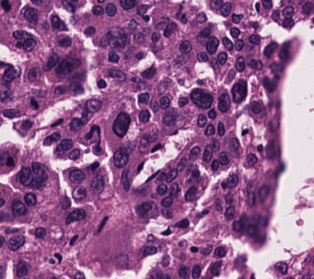nucleus: (55, 58, 80, 77), (112, 112, 130, 136), (190, 89, 212, 108), (113, 144, 131, 167), (231, 80, 246, 102), (65, 208, 85, 223), (2, 66, 19, 83), (137, 201, 156, 216), (109, 34, 127, 49), (7, 235, 24, 250), (91, 174, 104, 193), (19, 167, 32, 185), (30, 175, 46, 189), (12, 200, 26, 215), (218, 93, 229, 112), (197, 28, 210, 44), (45, 53, 58, 69), (85, 99, 101, 112), (206, 36, 218, 53), (72, 186, 86, 200), (31, 162, 46, 175), (69, 169, 84, 182), (109, 68, 125, 80), (23, 37, 36, 51), (85, 125, 99, 138), (139, 135, 149, 152), (264, 42, 276, 56), (163, 111, 175, 125), (121, 169, 129, 190), (185, 186, 196, 201), (16, 261, 27, 276), (13, 30, 31, 39), (259, 185, 269, 201), (179, 40, 191, 53), (142, 66, 155, 78), (28, 67, 40, 80), (189, 146, 200, 160), (235, 56, 245, 71), (70, 118, 82, 130), (203, 145, 212, 161), (165, 169, 177, 181), (24, 193, 36, 205), (98, 216, 107, 232), (263, 78, 274, 91), (227, 174, 238, 187), (211, 261, 221, 275), (2, 109, 19, 117), (60, 139, 72, 150), (275, 262, 287, 273), (222, 37, 232, 50), (139, 109, 149, 122), (1, 87, 10, 101), (225, 205, 234, 219), (142, 246, 156, 255), (71, 82, 82, 93), (145, 131, 156, 142), (159, 96, 169, 108), (251, 101, 261, 113), (176, 158, 186, 170), (188, 169, 198, 181), (147, 171, 159, 181), (267, 141, 274, 158), (58, 37, 71, 46), (249, 60, 262, 69), (170, 183, 179, 196), (108, 51, 118, 62), (138, 93, 149, 103), (161, 196, 172, 206), (233, 220, 243, 231), (34, 227, 45, 237), (214, 246, 225, 256), (178, 266, 188, 277), (217, 52, 226, 64), (158, 81, 167, 93), (197, 114, 206, 126), (219, 152, 228, 164), (61, 196, 70, 208), (249, 34, 259, 44), (50, 131, 60, 141), (69, 149, 79, 159), (161, 207, 171, 217), (197, 52, 208, 61), (205, 124, 214, 135), (210, 139, 219, 150), (247, 153, 256, 164), (157, 183, 166, 194), (247, 225, 256, 236), (226, 70, 234, 82), (230, 138, 238, 150), (176, 219, 188, 227), (192, 265, 200, 277), (217, 122, 224, 135), (230, 27, 239, 37), (22, 120, 32, 129), (43, 136, 53, 145), (201, 245, 211, 254), (100, 35, 108, 46), (235, 39, 243, 50), (55, 86, 66, 94), (150, 100, 158, 111), (134, 32, 143, 41), (151, 32, 160, 41), (97, 79, 106, 88), (178, 97, 187, 106), (271, 63, 281, 71), (151, 144, 161, 152), (211, 160, 219, 170), (177, 56, 186, 64), (89, 162, 98, 170), (52, 119, 62, 126), (137, 161, 143, 172), (153, 274, 169, 278), (31, 99, 38, 108), (208, 109, 215, 118), (225, 194, 232, 203), (70, 235, 77, 244), (249, 193, 254, 205), (56, 145, 63, 153), (6, 157, 13, 165), (54, 253, 61, 261), (216, 201, 221, 211), (162, 228, 170, 234), (75, 272, 83, 277), (16, 41, 22, 47), (136, 53, 143, 58), (0, 198, 4, 206), (257, 145, 262, 151), (0, 236, 3, 246), (191, 247, 197, 251)
